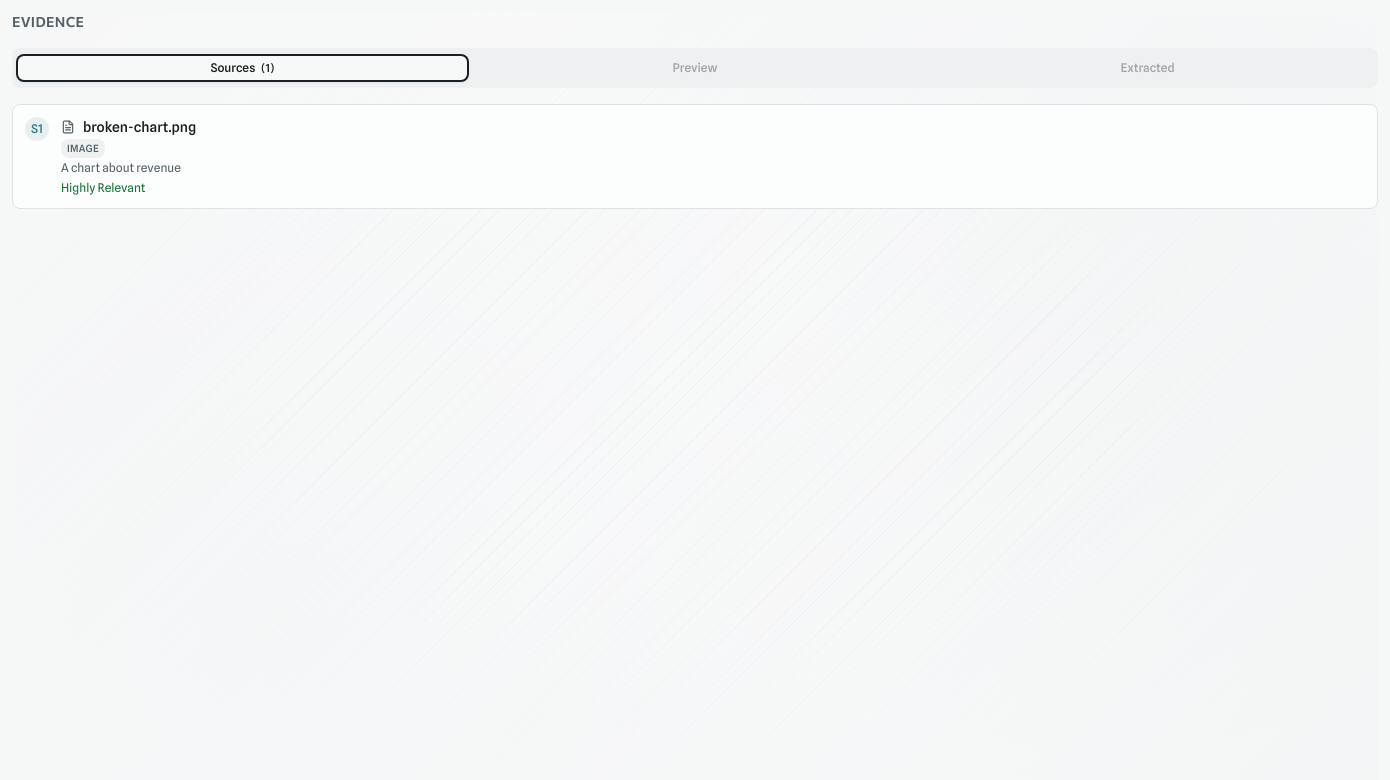
it: RightPane › artifact error keeps expanded text (UI-035) › renders the artifact error notice AND the expanded context text together
Click the button at (140, 127), box [12, 104, 1378, 209]
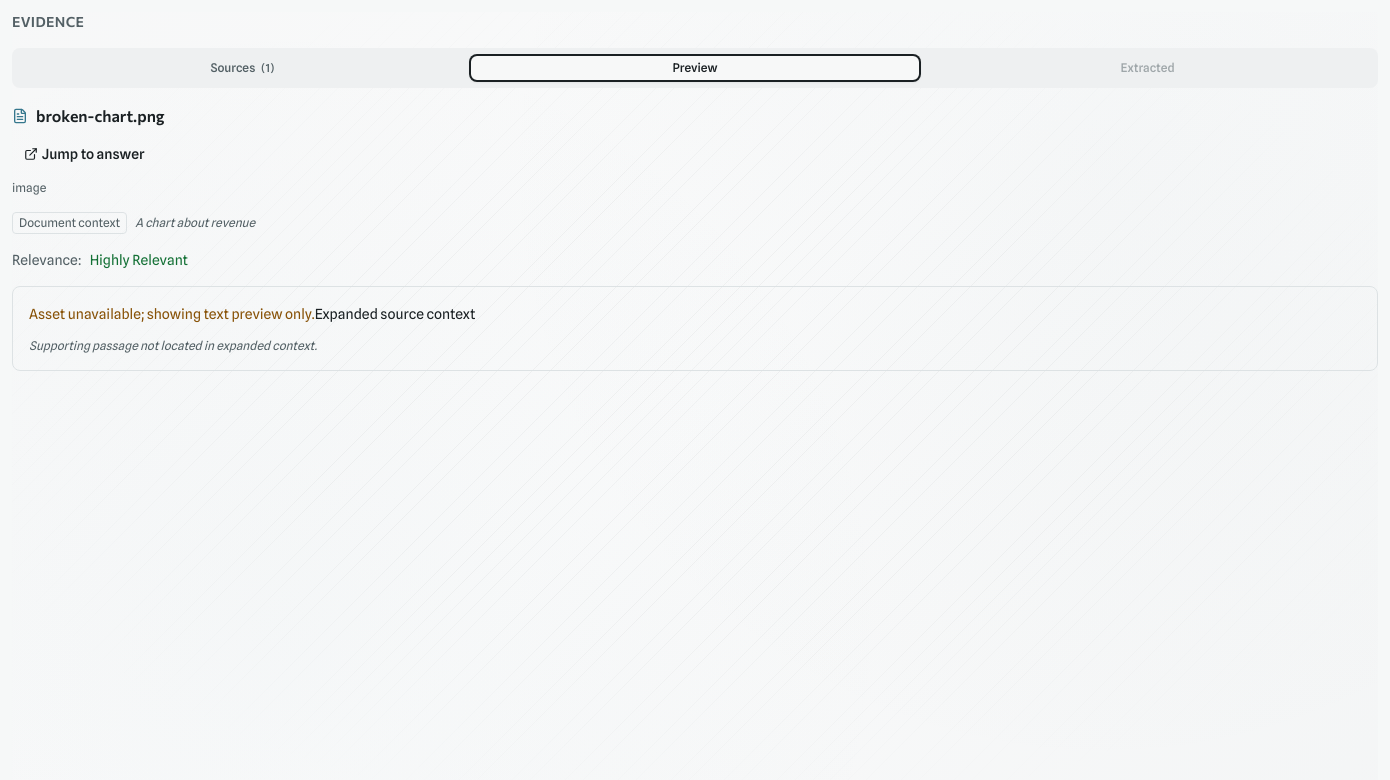
Result: the text "Asset unavailable; showing text preview only." is shown at [29, 306, 315, 322]
Result: the text "Expanded source context" is shown at [315, 306, 475, 322]
